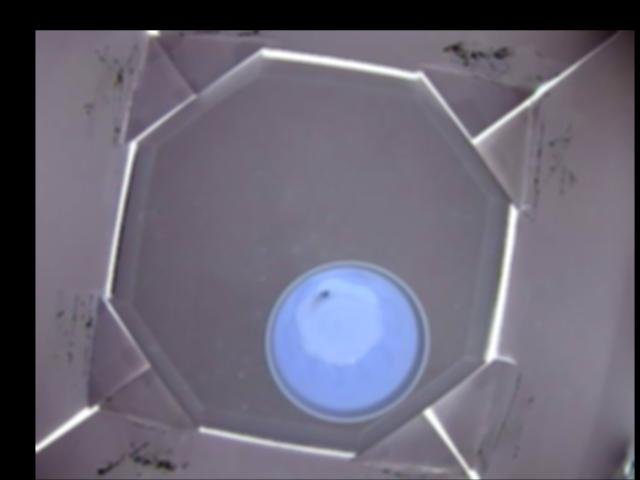Cup: (264, 258, 428, 423)
